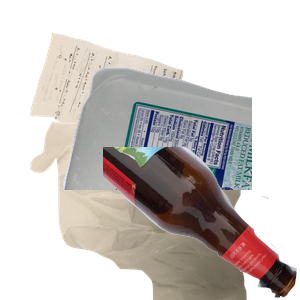glass: (103, 147, 300, 300)
paper: (27, 30, 203, 178)
plastic: (60, 65, 300, 245)
trash: (28, 120, 267, 300)
